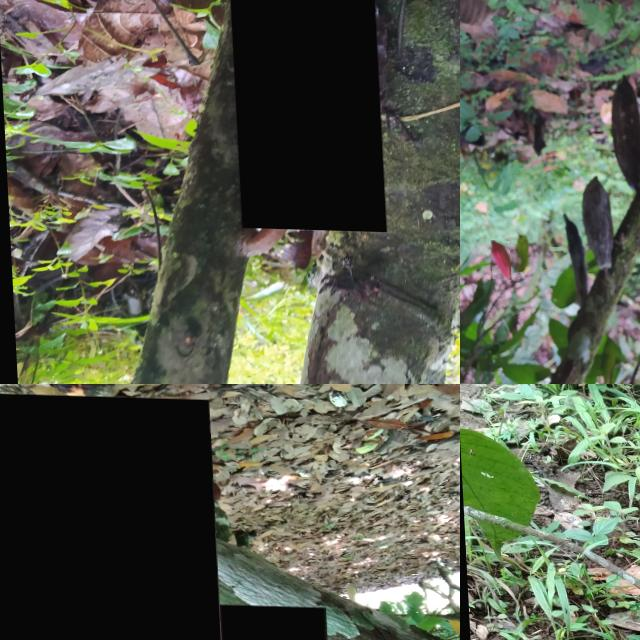Fitoftora: (0, 392, 223, 640), (225, 0, 381, 229), (607, 72, 640, 190), (577, 175, 611, 271), (560, 214, 586, 307)
Sana: (487, 240, 507, 279)
